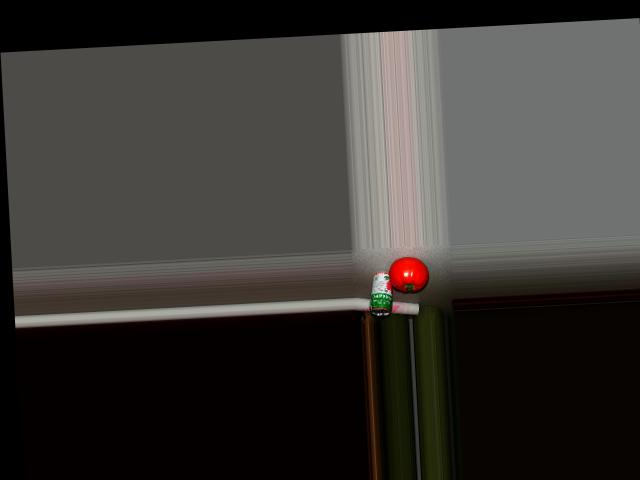tomato: (388, 256, 429, 292)
